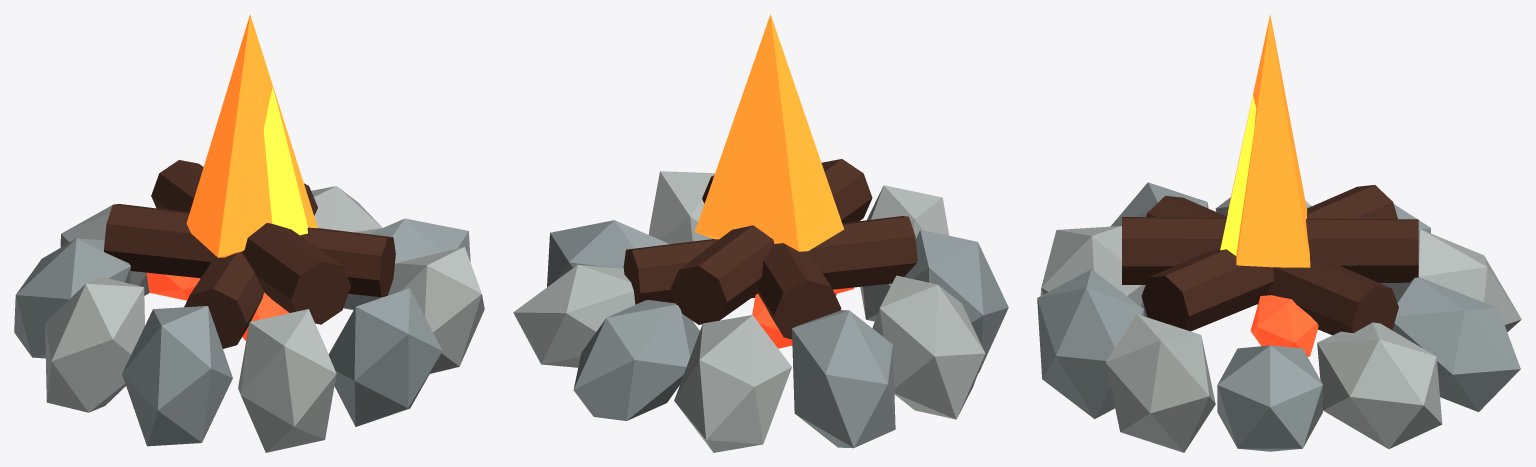
File: station_campfire.glb
3 views of the same model, side by side, from view 1: azimuth 30°, elevation 25°; view 2: azimuth 150°, elevation 25°; view 3: azimuth 270°, elevation 25° (orthographic). The views are drawn at different scales.
Parts seen in each view (by area): view 1: Flame_Outer, Ring_Stone_7, Ring_Stone_8, Ring_Stone_9, Ring_Stone_6, Fire_Log_2, Fire_Log_3, Ring_Stone_10, Ring_Stone_5, Fire_Log_1, Flame_Inner, Ring_Stone_1 (+4 smaller); view 2: Flame_Outer, Ring_Stone_5, Ring_Stone_4, Ring_Stone_3, Ring_Stone_6, Fire_Log_1, Fire_Log_3, Ring_Stone_2, Ring_Stone_7, Fire_Log_2, Ring_Stone_1, Ring_Stone_10 (+2 smaller); view 3: Ring_Stone_2, Fire_Log_3, Ring_Stone_10, Flame_Outer, Ring_Stone_3, Ring_Stone_9, Ring_Stone_1, Fire_Log_2, Fire_Log_1, Ring_Stone_4, Ring_Stone_8, Coal_1 (+2 smaller).
Boxes of the visible parts, left/top/right/bottom form: Flame_Outer: left=186, top=14, right=317, bottom=257; Ring_Stone_7: left=122, top=306, right=232, bottom=446; Ring_Stone_8: left=238, top=309, right=336, bottom=452; Ring_Stone_9: left=328, top=288, right=442, bottom=426; Ring_Stone_6: left=45, top=277, right=144, bottom=412; Fire_Log_2: left=104, top=204, right=395, bottom=297; Fire_Log_3: left=151, top=160, right=351, bottom=324; Ring_Stone_10: left=381, top=247, right=484, bottom=373; Ring_Stone_5: left=14, top=238, right=130, bottom=358; Fire_Log_1: left=184, top=183, right=317, bottom=348; Flame_Inner: left=263, top=88, right=307, bottom=235; Ring_Stone_1: left=343, top=218, right=470, bottom=310; Flame_Outer: left=695, top=14, right=844, bottom=251; Ring_Stone_5: left=792, top=310, right=895, bottom=448; Ring_Stone_4: left=674, top=315, right=791, bottom=452; Ring_Stone_3: left=573, top=300, right=699, bottom=420; Ring_Stone_6: left=872, top=275, right=985, bottom=419; Fire_Log_1: left=623, top=216, right=917, bottom=304; Fire_Log_3: left=670, top=159, right=872, bottom=324; Ring_Stone_2: left=513, top=264, right=635, bottom=367; Ring_Stone_7: left=904, top=229, right=1008, bottom=373; Fire_Log_2: left=702, top=175, right=841, bottom=339; Ring_Stone_1: left=547, top=220, right=669, bottom=286; Ring_Stone_10: left=648, top=171, right=714, bottom=244; Ring_Stone_2: left=1317, top=322, right=1442, bottom=448; Fire_Log_3: left=1122, top=217, right=1418, bottom=284; Ring_Stone_10: left=1105, top=314, right=1215, bottom=452; Flame_Outer: left=1227, top=14, right=1310, bottom=267; Ring_Stone_3: left=1392, top=277, right=1520, bottom=412; Ring_Stone_9: left=1037, top=269, right=1144, bottom=419; Ring_Stone_1: left=1217, top=345, right=1322, bottom=451; Fire_Log_2: left=1141, top=185, right=1397, bottom=331; Fire_Log_1: left=1146, top=195, right=1398, bottom=335; Ring_Stone_4: left=1380, top=229, right=1521, bottom=331; Ring_Stone_8: left=1040, top=226, right=1145, bottom=308; Coal_1: left=1250, top=295, right=1318, bottom=356.
Size of the model in its own units: 1.48 by 1.2 by 1.4.
